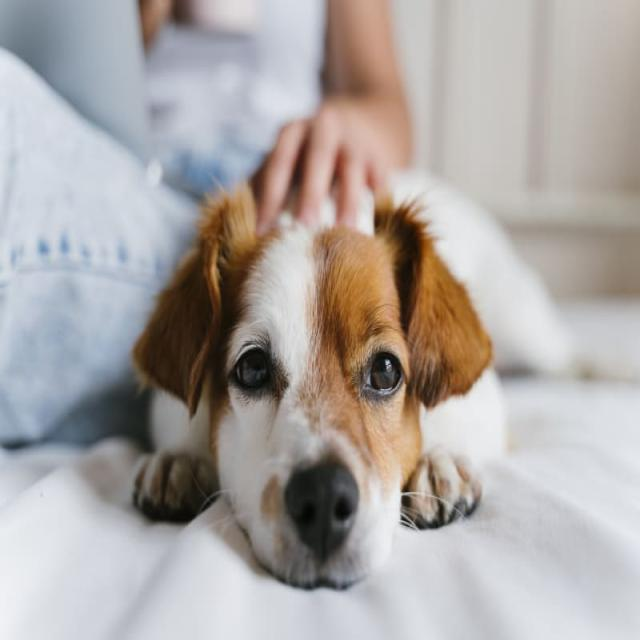fungal infection: (277, 526, 371, 585), (417, 462, 476, 516), (143, 458, 198, 511), (310, 228, 353, 284), (259, 474, 290, 528)
